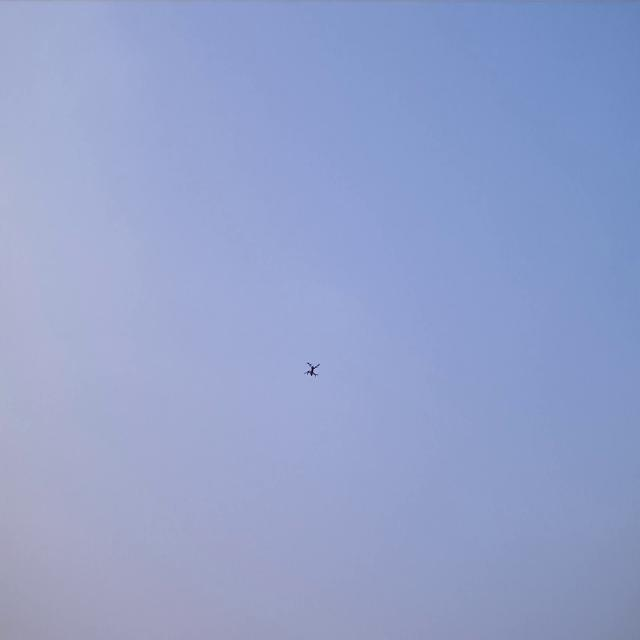UAV: (302, 360, 320, 379)
